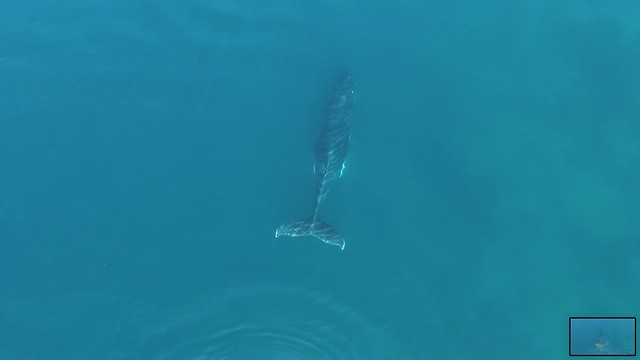whale: (264, 56, 367, 256)
